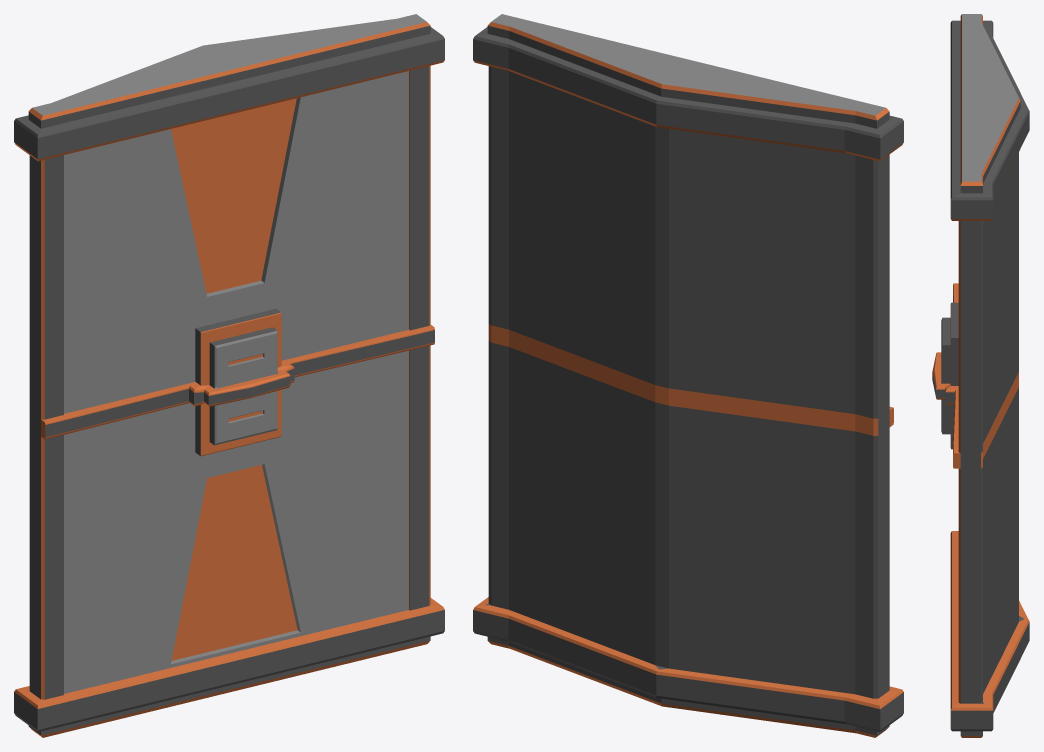
The model's file is Barrier.fbx.
3 renders of one model, left to right at view 1: azimuth 30°, elevation 25°; view 2: azimuth 150°, elevation 25°; view 3: azimuth 270°, elevation 25°, orthographic. The views are drawn at different scales.
Parts seen in each view (by area): view 1: Barrier; view 2: Barrier; view 3: Barrier.
Part boxes in pixels (x1,y1,x2,y2): Barrier: (14,14,444,737); Barrier: (473,14,903,737); Barrier: (932,14,1029,737).
Bounding box in the file's own units: 383 × 559 × 88.62.
